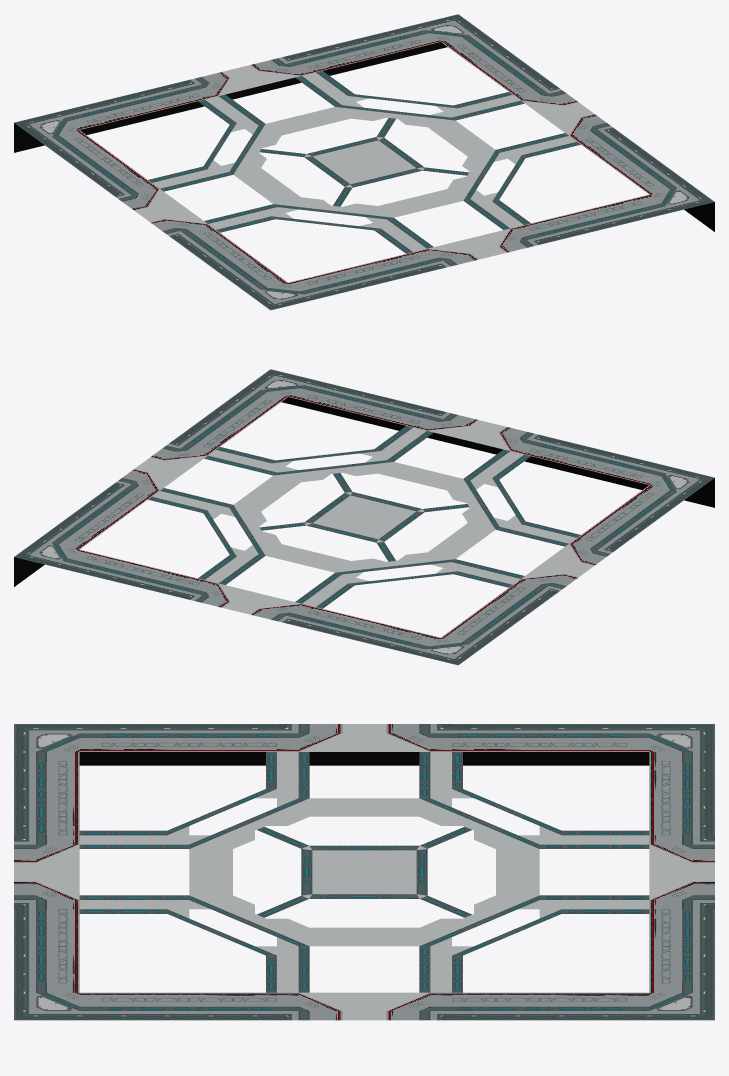
File: CuveGround.fbx
The picture shows the model from 3 angles, top to bottom: view 1: azimuth 30°, elevation 25°; view 2: azimuth 150°, elevation 25°; view 3: azimuth 270°, elevation 25°; orthographic projection. The views are drawn at different scales.
Parts seen in each view (by area): view 1: SolSalleCuve; view 2: SolSalleCuve; view 3: SolSalleCuve.
Part boxes in pixels (<box>): SolSalleCuve: <box>14,14,714,310</box>; SolSalleCuve: <box>14,369,714,665</box>; SolSalleCuve: <box>14,724,714,1020</box>.
Size of the model in its own units: 2400 by 2400 by 157.
